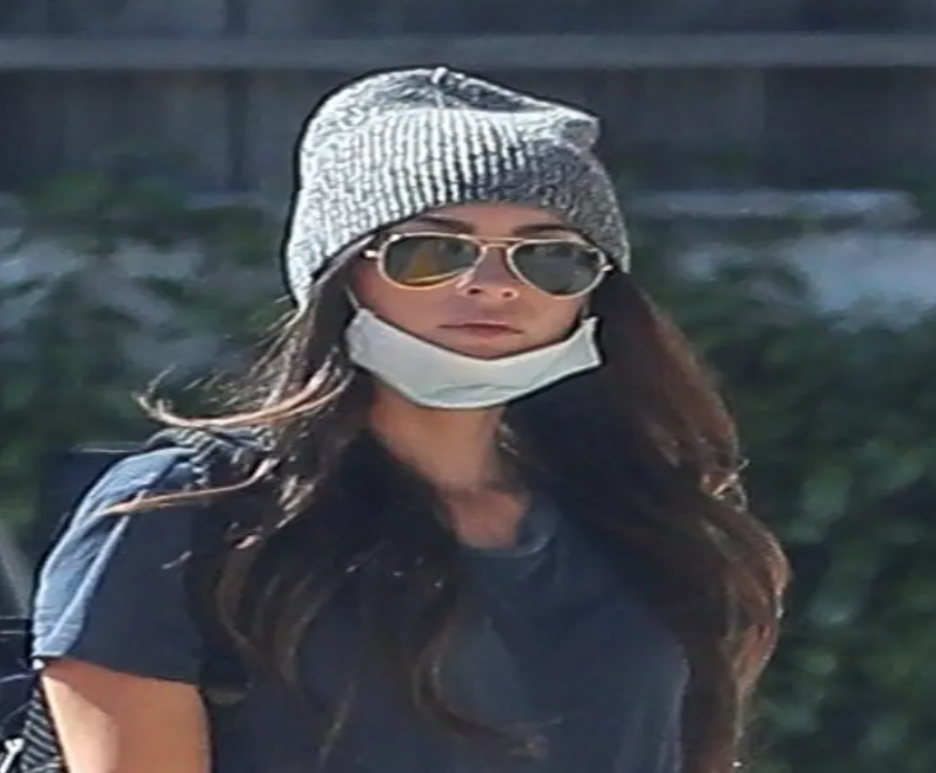mask_weared_incorrect: (285, 70, 628, 416)
